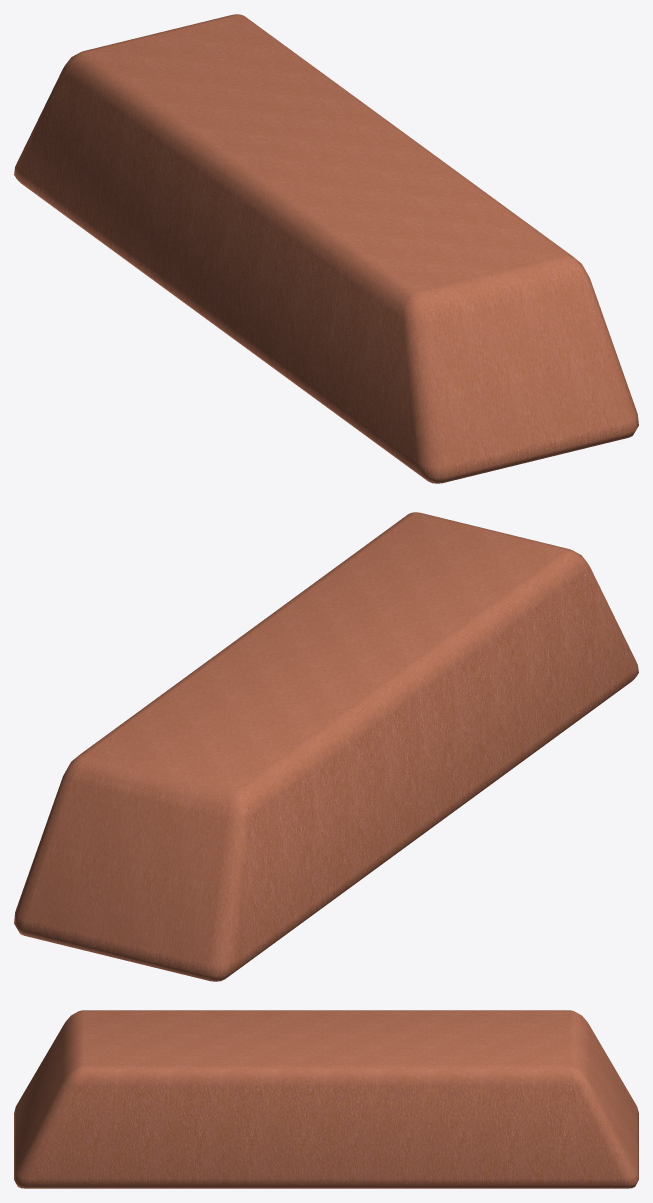
File: Copper_Ingot.FBX
3 views of the same model, one above another, from view 1: azimuth 30°, elevation 25°; view 2: azimuth 150°, elevation 25°; view 3: azimuth 270°, elevation 25° (orthographic). The views are drawn at different scales.
Parts seen in each view (by area): view 1: Copper; view 2: Copper; view 3: Copper.
Part boxes in pixels (x1,y1,x2,y2): Copper: [14, 14, 638, 483]; Copper: [14, 512, 638, 981]; Copper: [14, 1010, 638, 1188].
Bounding box in the file's own units: 5.85 × 4 × 19.62.
1 material, 1 textured.
